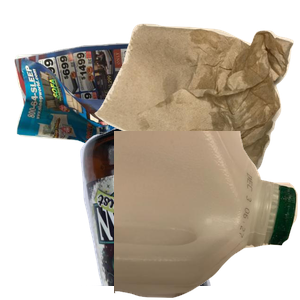glass: (78, 120, 281, 300)
paper: (12, 31, 196, 204)
plastic: (114, 131, 300, 300)
trash: (92, 21, 300, 201)
